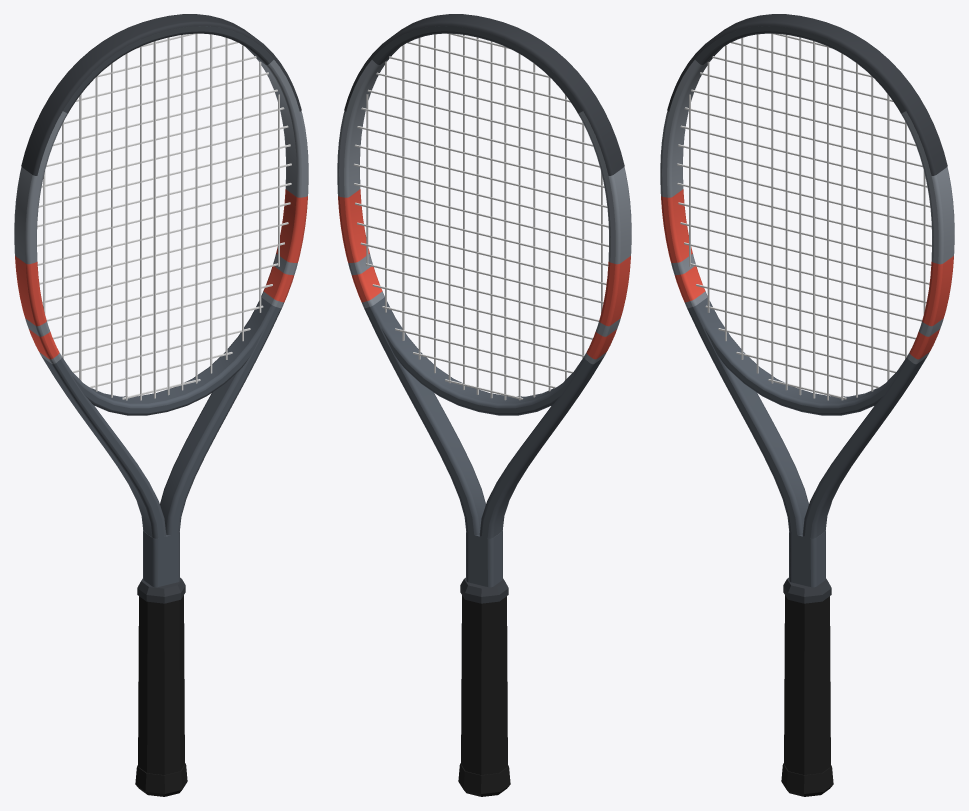
File: babolat-pure-strike-lite-2024.glb
3 views of the same model, side by side, from view 1: azimuth 30°, elevation 25°; view 2: azimuth 150°, elevation 25°; view 3: azimuth 330°, elevation 25° (orthographic).
Parts seen in each view (by area): view 1: frame, strings_mains, strings_crosses, grip, bumper, butt_cap, collar; view 2: frame, strings_mains, strings_crosses, grip, bumper, butt_cap, collar; view 3: frame, strings_mains, strings_crosses, grip, bumper, butt_cap, collar.
Part boxes in pixels (x1,y1,x2,y2): frame: [14, 26, 308, 587]; strings_mains: [43, 33, 279, 400]; strings_crosses: [37, 33, 291, 399]; grip: [138, 595, 184, 774]; bumper: [21, 14, 301, 175]; butt_cap: [135, 763, 187, 796]; collar: [137, 577, 185, 603]; frame: [337, 26, 631, 587]; strings_mains: [366, 34, 602, 400]; strings_crosses: [353, 33, 608, 399]; grip: [461, 595, 507, 774]; bumper: [344, 14, 624, 175]; butt_cap: [458, 763, 510, 796]; collar: [460, 577, 508, 603]; frame: [660, 26, 954, 587]; strings_mains: [689, 33, 925, 400]; strings_crosses: [677, 33, 931, 399]; grip: [784, 595, 830, 774]; bumper: [667, 14, 947, 175]; butt_cap: [781, 763, 833, 796]; collar: [783, 577, 831, 603].
Size of the model in its own units: 0.2658 by 0.6861 by 0.0396.
